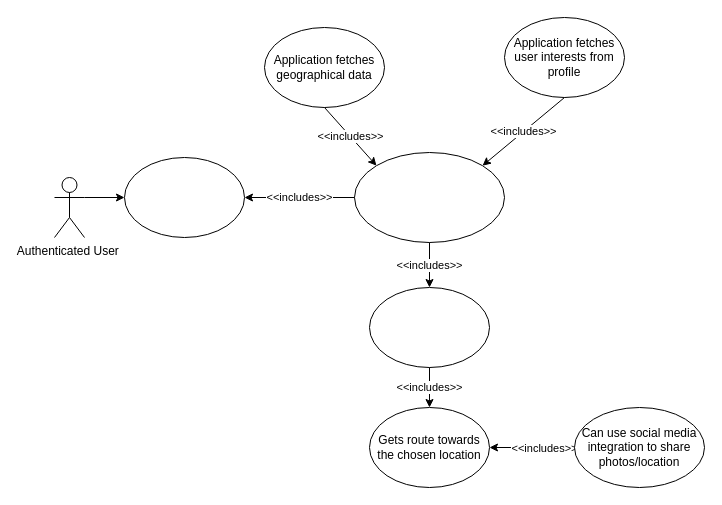
Image size: 722x505. Some labels were removed from this diagram. Here are the shapes that lost their labels. From the top down, the box of each, then its label:
(124, 156, 244, 238): Opens map in application
(354, 152, 504, 242): Application compiles a list about the closest locals relevant to the user
(368, 286, 490, 368): Chooses location from list
